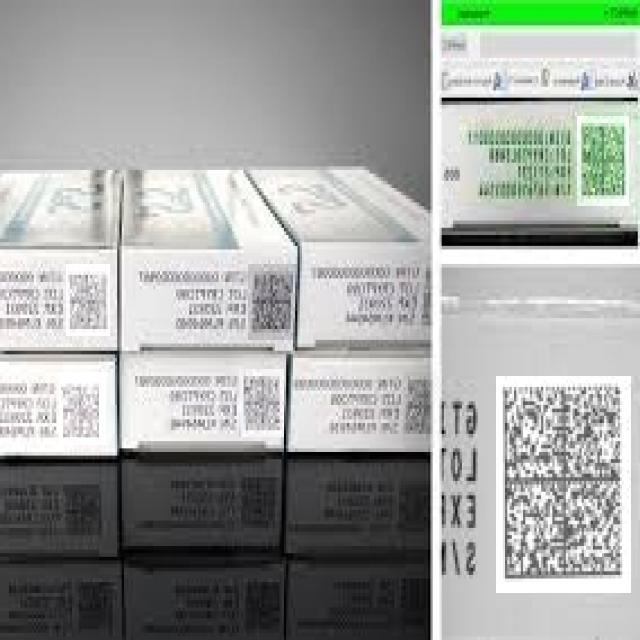DataMatrix: (496, 376, 631, 593), (577, 116, 629, 206), (248, 264, 297, 340), (59, 372, 106, 445), (66, 264, 110, 336), (239, 369, 284, 437), (403, 372, 435, 448)
